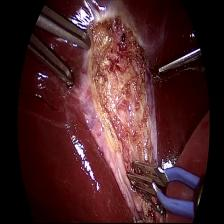Bipolar: (125, 158, 201, 219)
Grasper: (25, 6, 92, 90), (150, 49, 206, 79)
